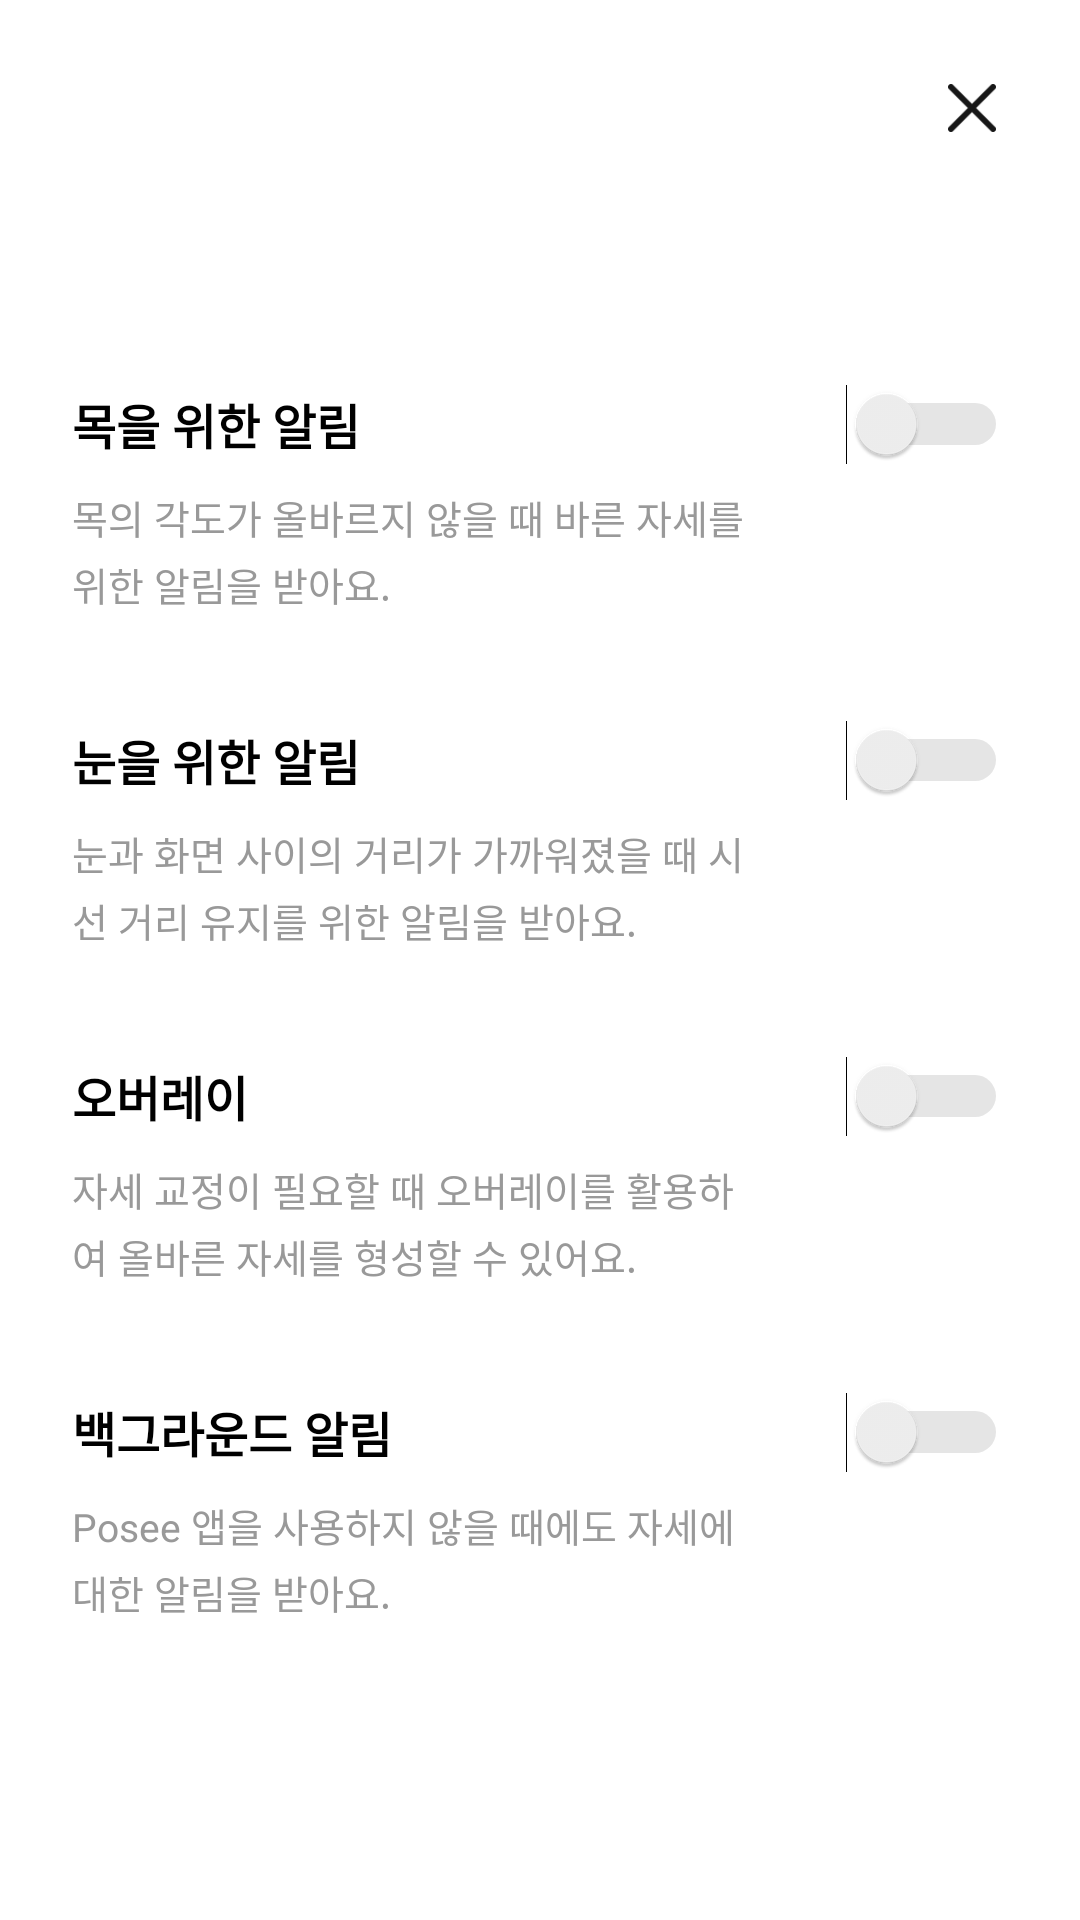

Screen size 1080px x 1920px. Icon name, then its box in pixels as (x1, y1, x2, y2):
닫기: (948, 84, 996, 132)
